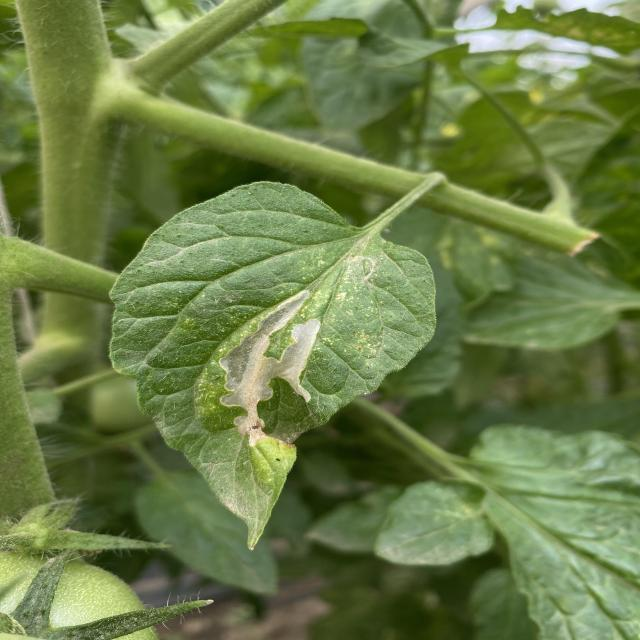Tuta absoluta: (194, 285, 363, 449)
